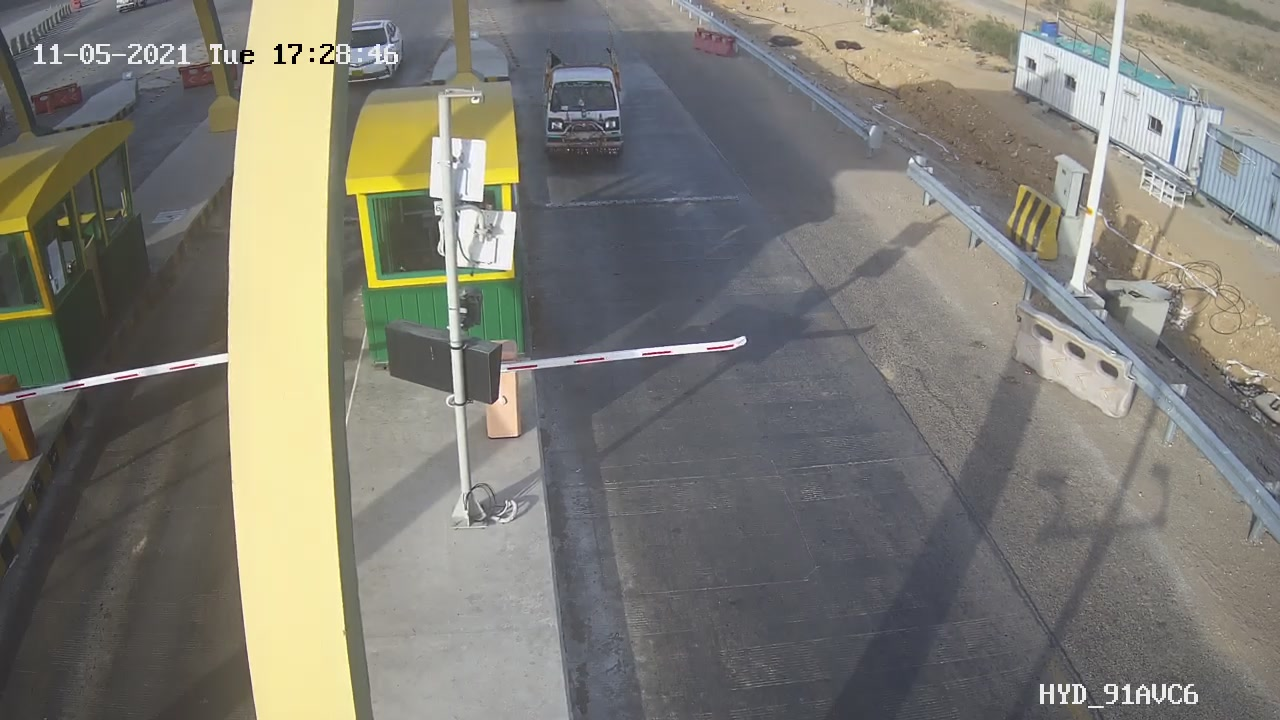F1: (524, 36, 647, 177)
